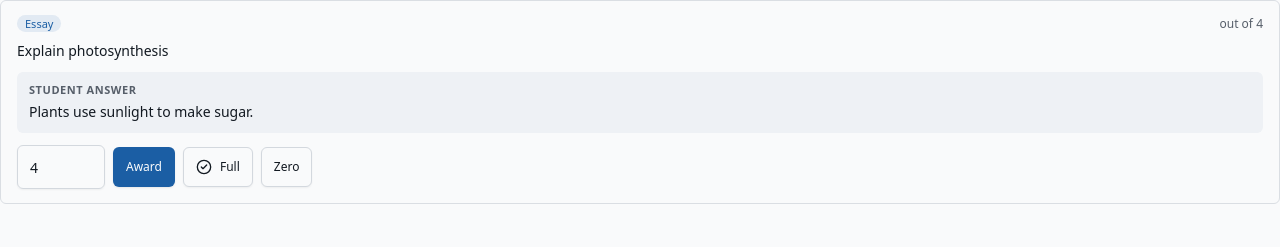
AnswerCard › shows the error and lets the marker try again when saving fails
The width and height of the screenshot is (1280, 247).
Click the button "Award" at (144, 167), box [113, 147, 175, 187]
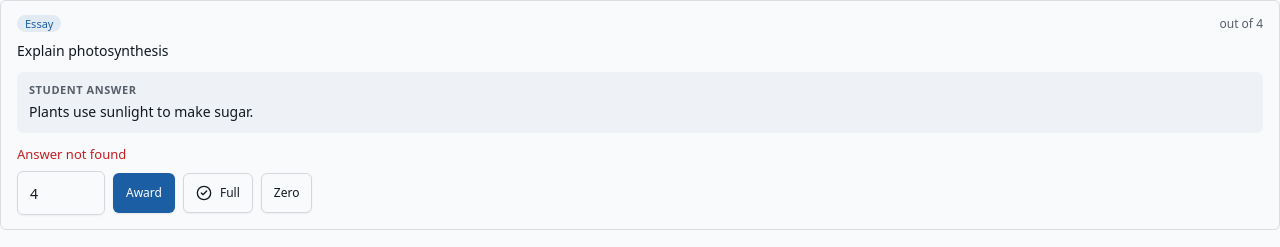
Expected: the button "Award" is enabled, [113, 173, 175, 213]
Expected: the text "Answer not found" is shown, [17, 145, 126, 163]
